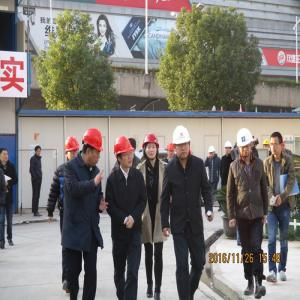none: (270, 131, 283, 157), (97, 15, 110, 38), (128, 137, 138, 156), (2, 148, 11, 165), (35, 145, 42, 157)
red: (82, 129, 104, 166), (115, 136, 135, 168), (143, 133, 160, 161), (65, 136, 81, 161), (167, 144, 176, 160)
white: (174, 126, 192, 161), (237, 130, 254, 159), (225, 142, 232, 156), (209, 146, 216, 158)
yellow: (263, 139, 271, 151)
